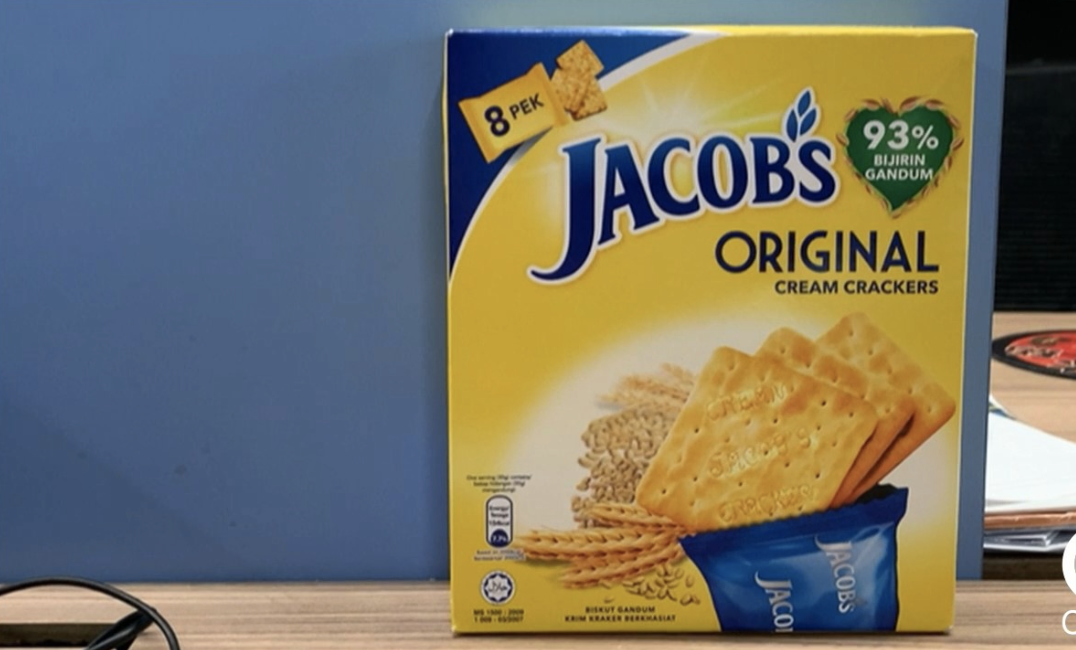crackers_150g: (459, 46, 948, 630)
